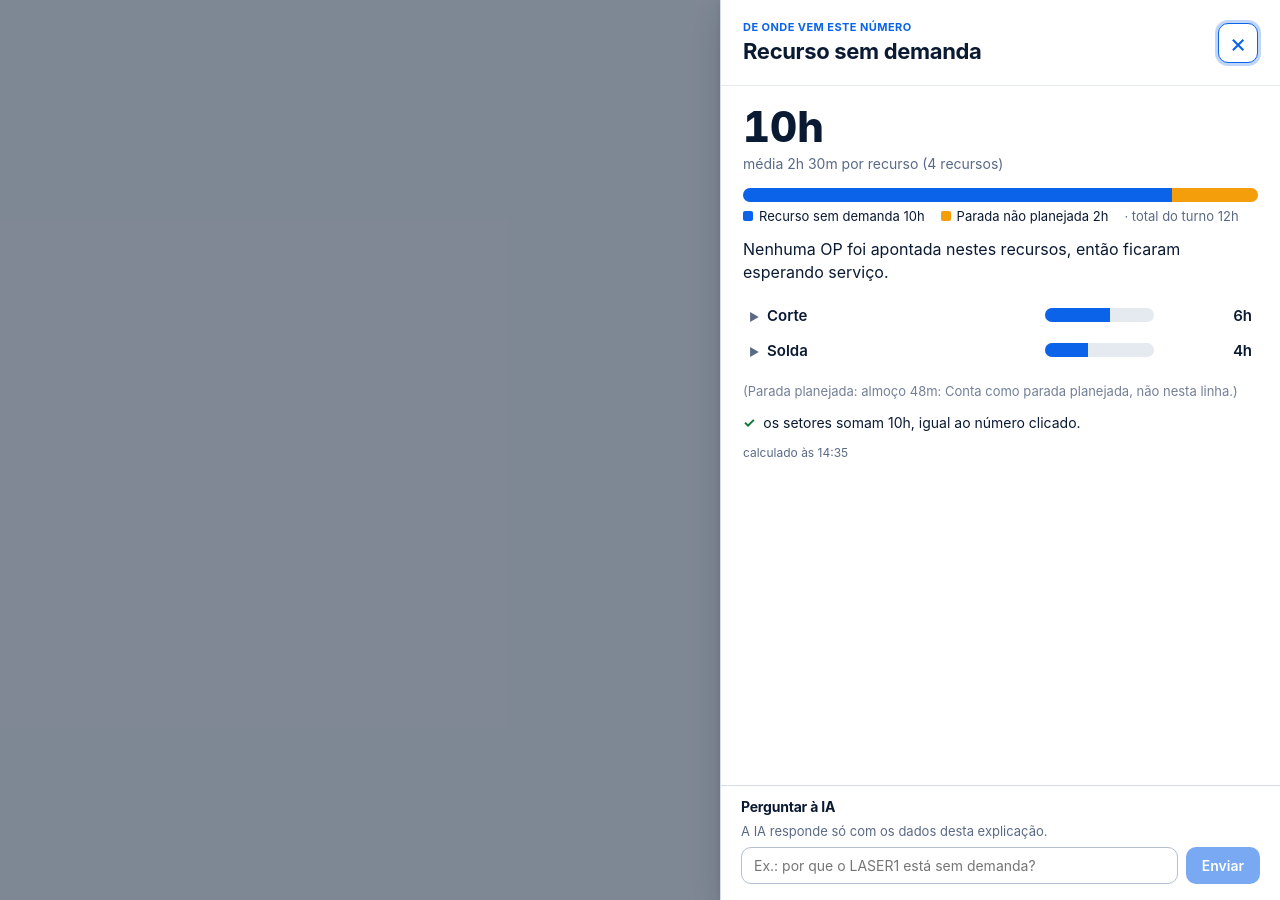
Scenario: MetricExplanationPanel chat › falha qualquer vira uma mensagem simples em português
This screenshot has width=1280, height=900.
Expected: the text "10h" is shown, 743,101 -> 824,152
In the field named "Pergunta para a IA": (959, 866) 741,847 -> 1178,884, type "oi"
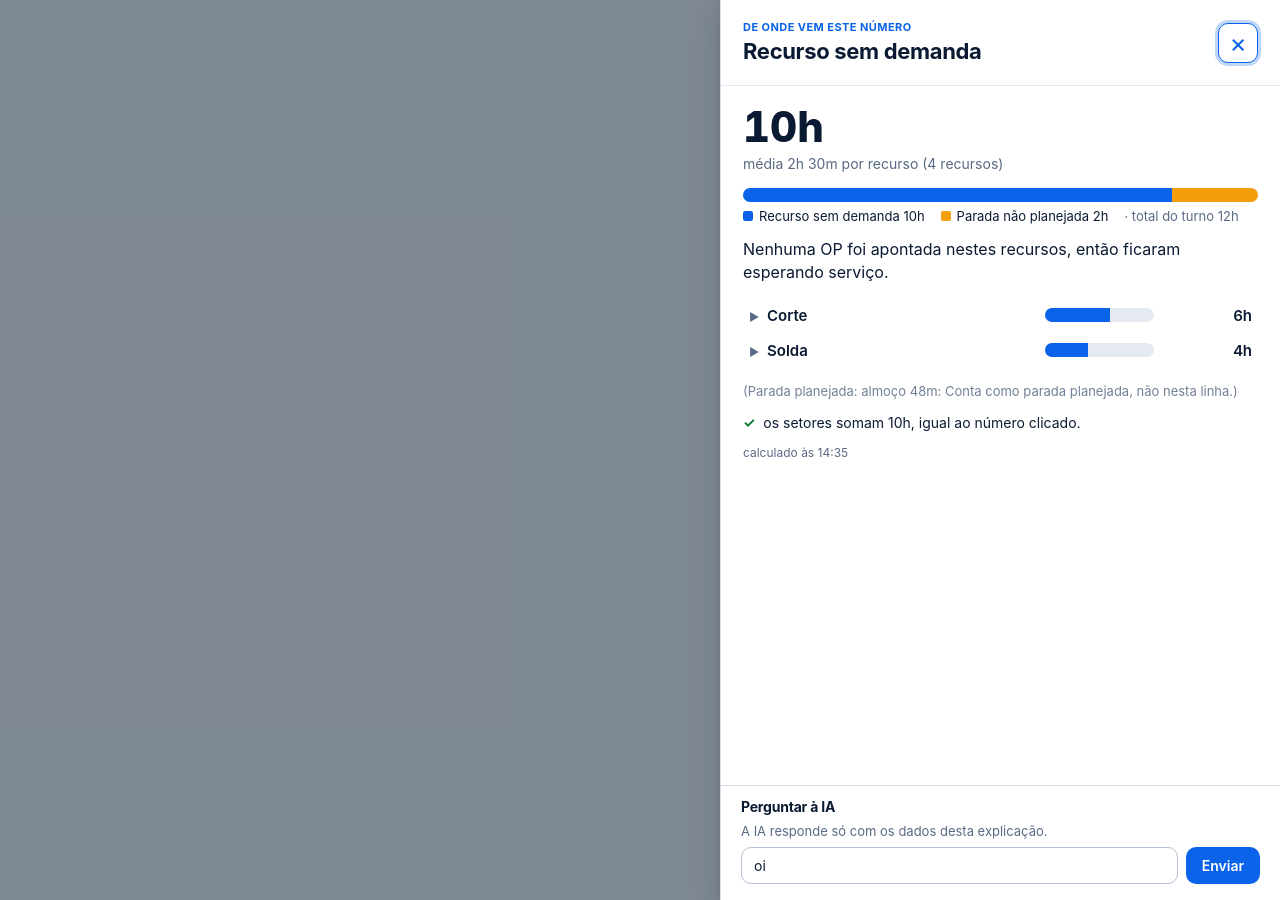
Click the button "Enviar": (1223, 866) 1186,847 -> 1260,884
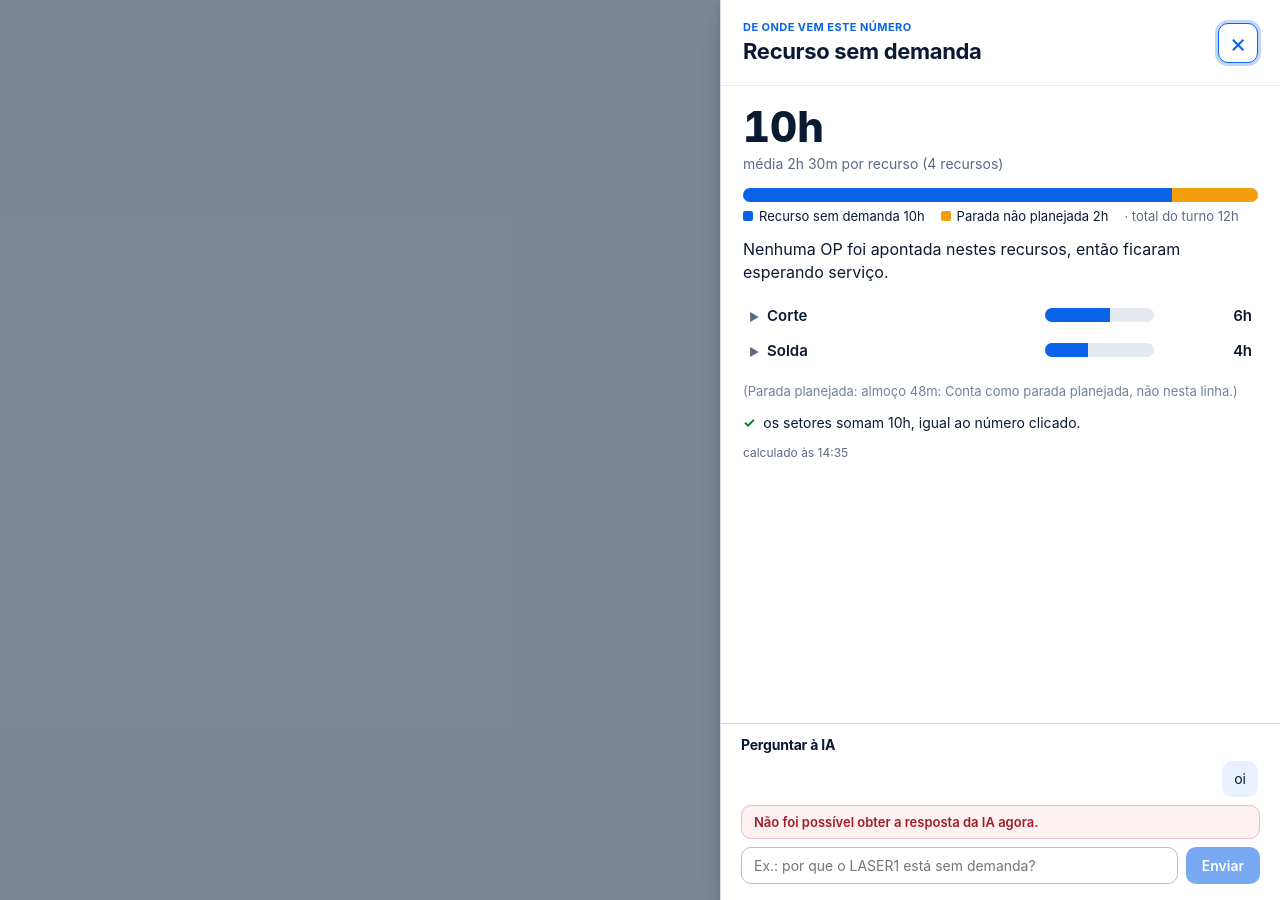
Now the text "Não foi possível obter a resposta da IA agora." is shown, box 741,805 -> 1260,839
